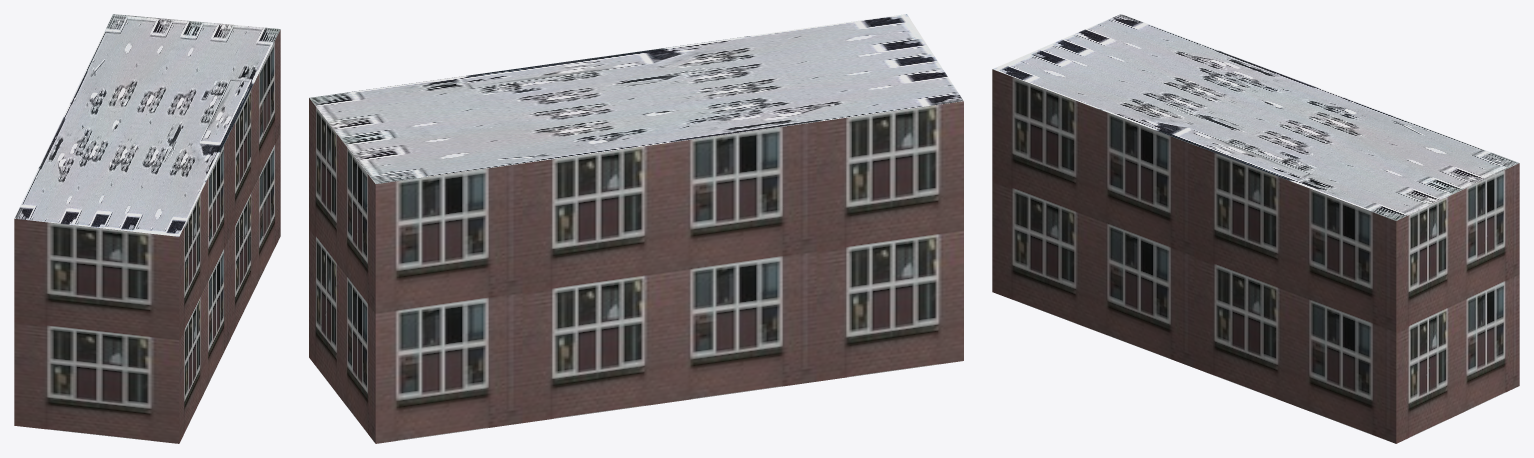
The model's file is ResTex__2526.fbx.
3 renders of one model, left to right at view 1: azimuth 30°, elevation 25°; view 2: azimuth 150°, elevation 25°; view 3: azimuth 270°, elevation 25°, orthographic. The views are drawn at different scales.
Parts seen in each view (by area): view 1: CityEngineMaterial_12_m, CityEngineMaterial_8_m; view 2: CityEngineMaterial_12_m, CityEngineMaterial_8_m; view 3: CityEngineMaterial_12_m, CityEngineMaterial_8_m.
Part boxes in pixels (bbox=[...]): CityEngineMaterial_12_m: bbox=[14, 30, 280, 443]; CityEngineMaterial_8_m: bbox=[14, 14, 280, 236]; CityEngineMaterial_12_m: bbox=[309, 98, 963, 443]; CityEngineMaterial_8_m: bbox=[309, 14, 963, 183]; CityEngineMaterial_12_m: bbox=[992, 69, 1519, 443]; CityEngineMaterial_8_m: bbox=[993, 14, 1519, 220].
Bounding box in the file's own units: 11.96 × 6 × 12.86.
2 materials, 2 textured.
